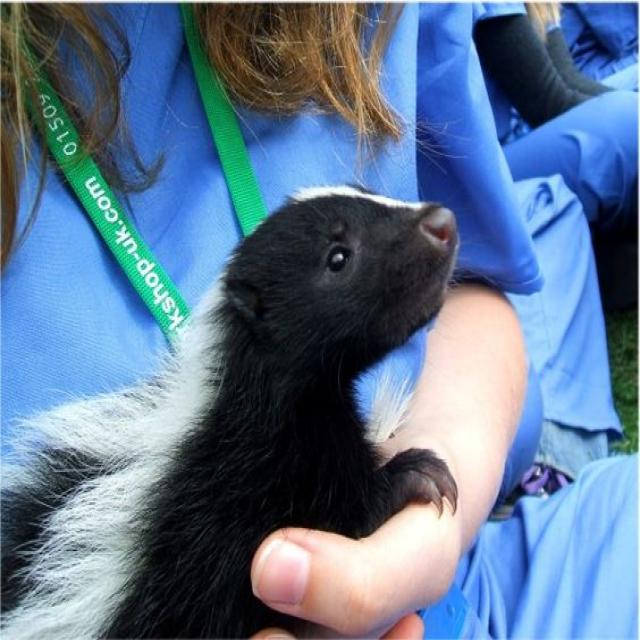Skunk: (0, 189, 474, 640)
